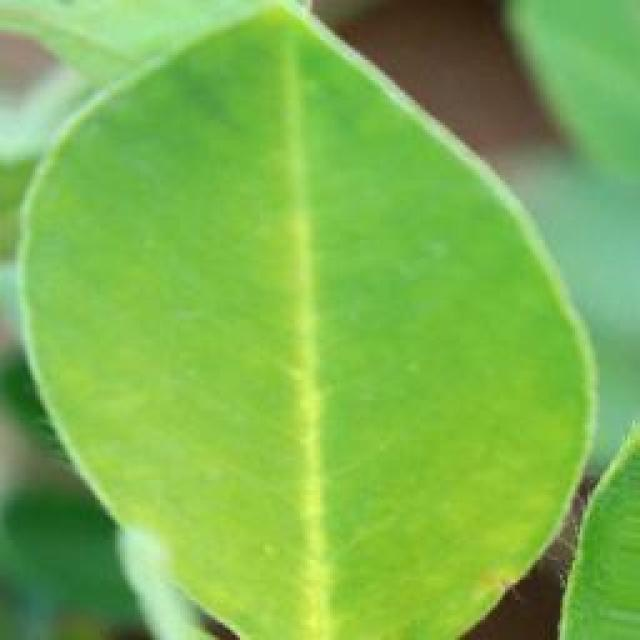Yellow_and_black_sigatoka: (11, 2, 598, 640)
